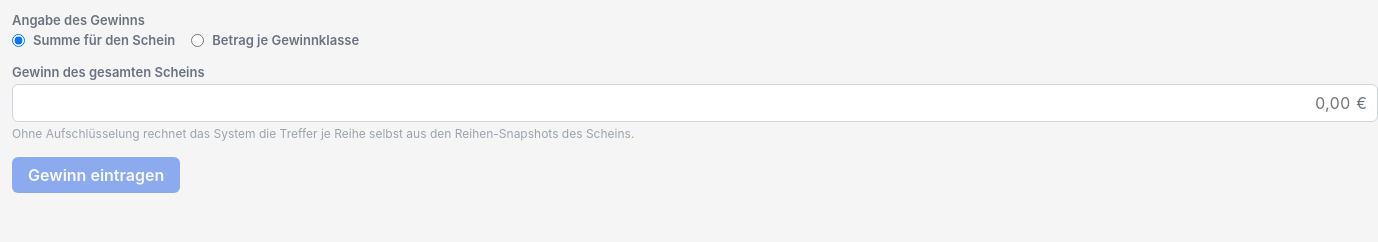
WinningsEntry › multiplies in cents, so three rows at 0,07 are exactly 0,21
Click the radio button labelled "Betrag je Gewinnklasse": [198, 40] box [191,34,204,46]
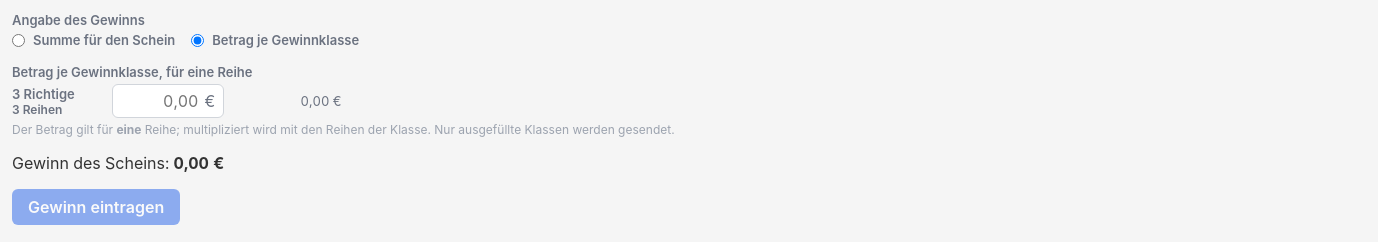
In the field labelled "3 Richtige 3 Reihen": [160, 101] box [121,91,198,111], type "0,07"
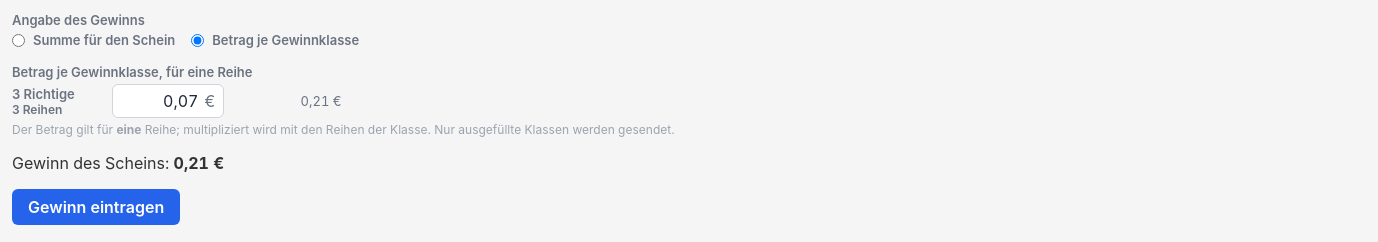
Expected: the text "0,21" is shown, [301,93,342,109]
